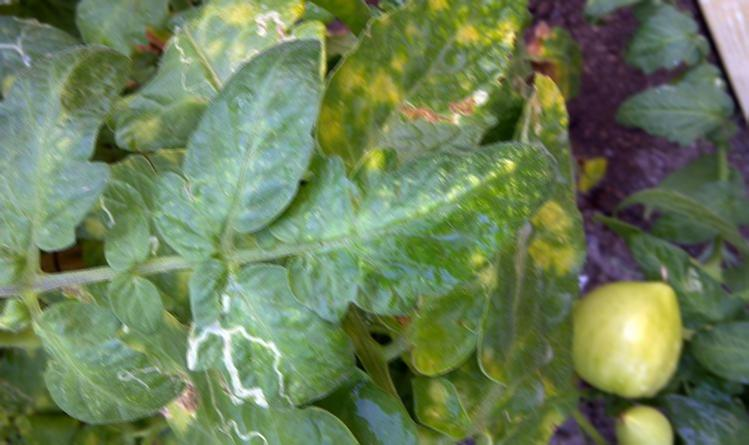Tomato mold leaf: (267, 140, 574, 326), (319, 0, 543, 190), (0, 15, 152, 273), (163, 32, 338, 245), (28, 292, 196, 434)
